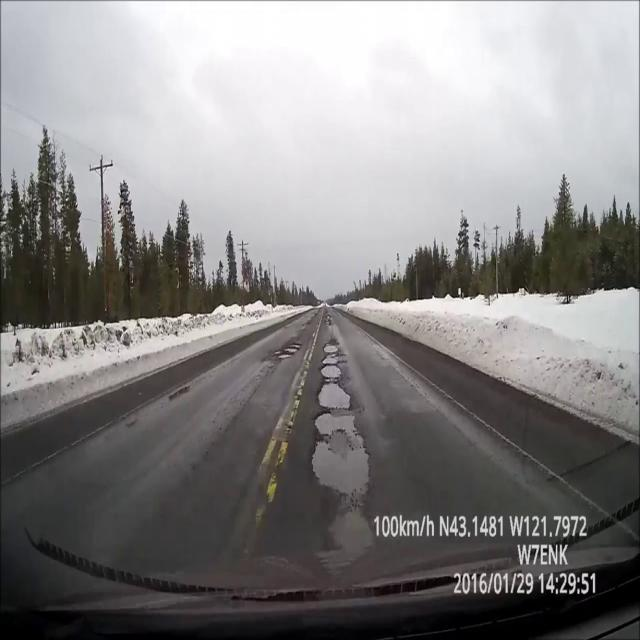Pothole: (310, 411, 371, 493), (315, 383, 352, 409), (319, 366, 342, 378), (323, 343, 339, 352), (322, 356, 337, 364), (278, 353, 293, 359), (284, 348, 299, 353), (324, 319, 332, 326), (289, 343, 301, 347), (326, 315, 331, 318)
